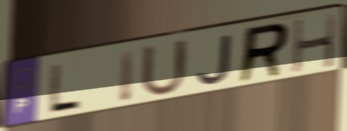H: (292, 11, 338, 76)
I: (117, 46, 138, 105)
J: (195, 32, 235, 87)
L: (45, 61, 84, 114)
R: (236, 21, 292, 87)
U: (138, 37, 190, 100)
